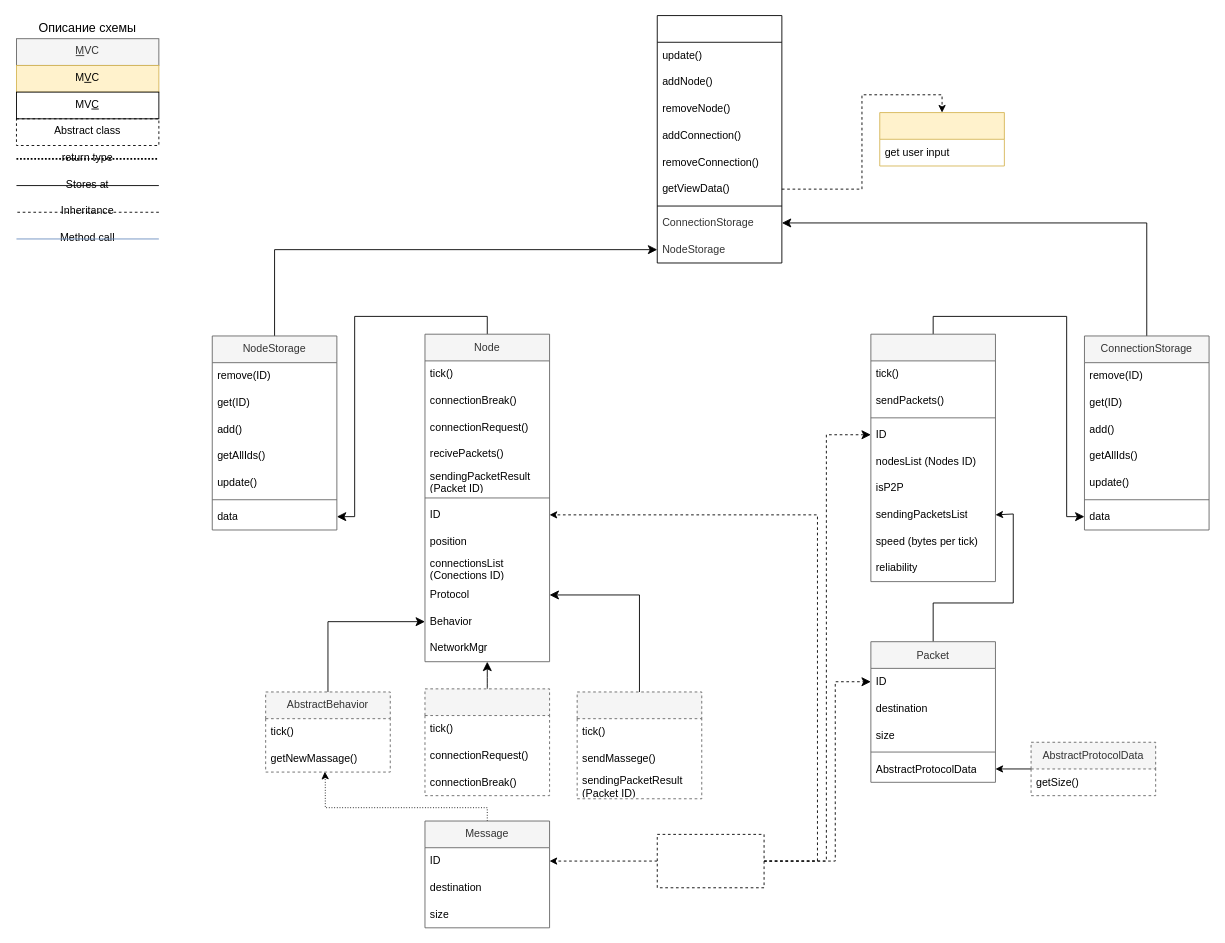
Some shapes in this 1225 by 943 pixel diagram are drawn without their labels. The shapes that lost their labels are listed below. From the top down, each one's box as (x1, y1, x2, y2) in pixels, then its label:
(656, 15, 782, 263): Controller
(879, 112, 1004, 166): GUI
(870, 333, 995, 582): Connection
(424, 688, 550, 796): AbstractNetworkMgr
(576, 691, 702, 799): AbstractProtocol
(656, 833, 764, 888): AbstractID
